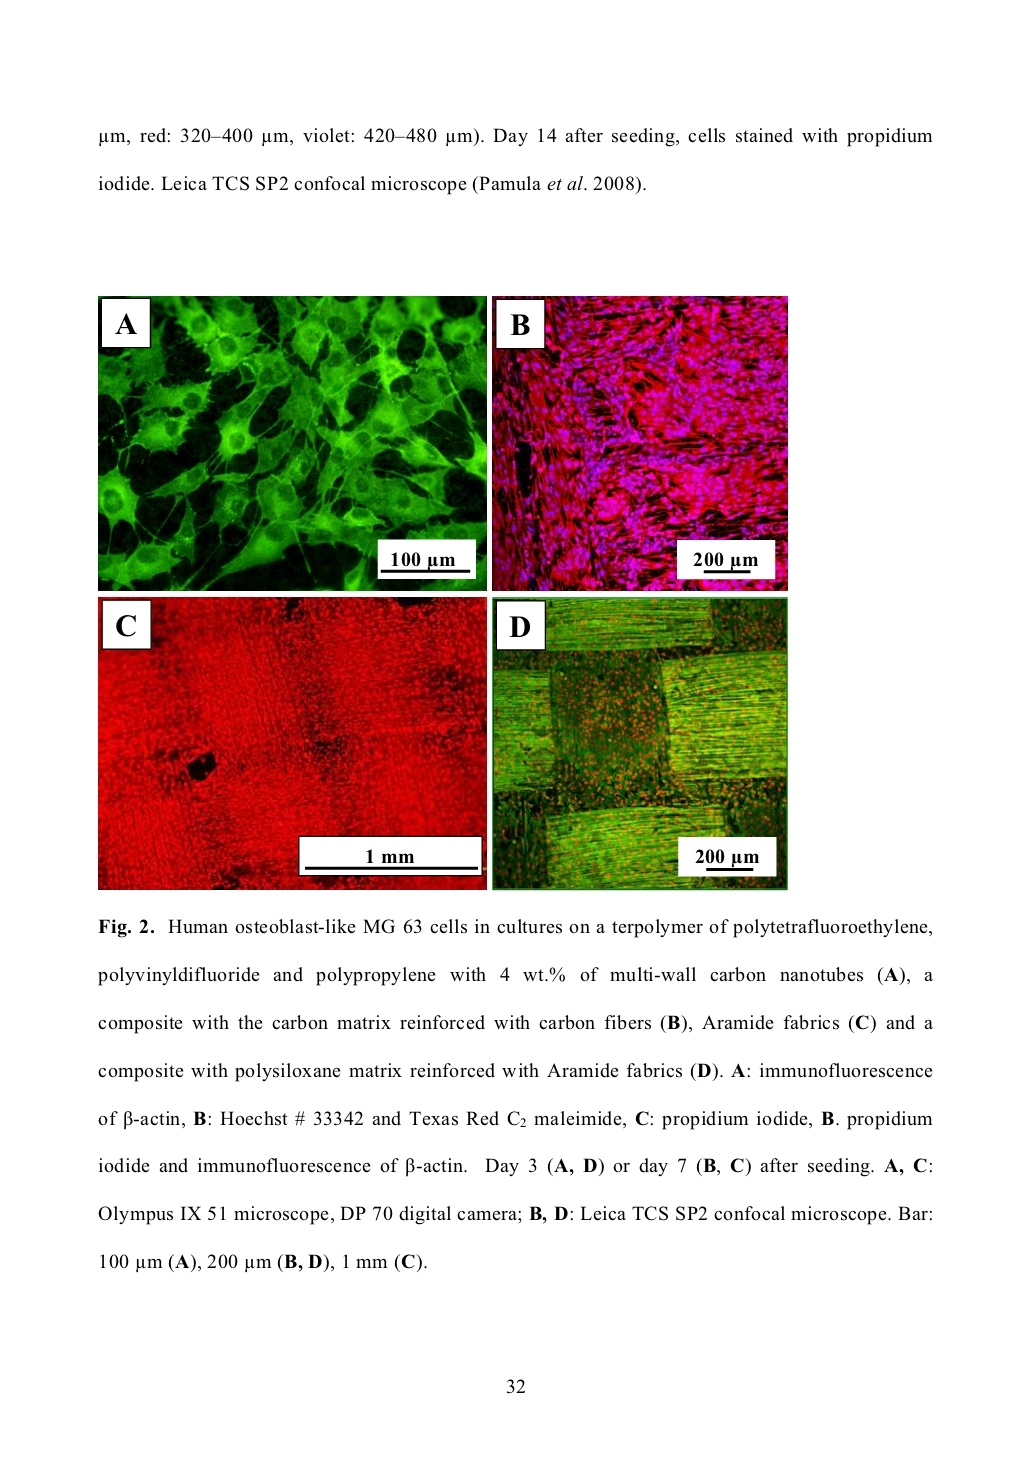figure: (97, 294, 488, 591), (97, 596, 491, 889), (492, 296, 787, 590), (492, 597, 788, 890)
